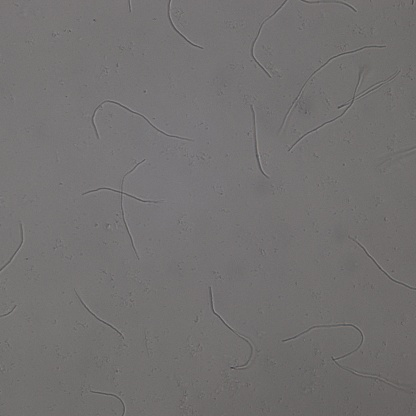Sensitive: (280, 42, 386, 128), (81, 160, 157, 259), (289, 67, 358, 153), (89, 99, 193, 142), (208, 285, 256, 370), (349, 237, 416, 294), (280, 321, 365, 361), (249, 1, 291, 78), (335, 360, 416, 397), (73, 290, 124, 337), (340, 72, 399, 105), (164, 1, 204, 49), (248, 104, 269, 178), (1, 223, 25, 270), (91, 387, 127, 415)
